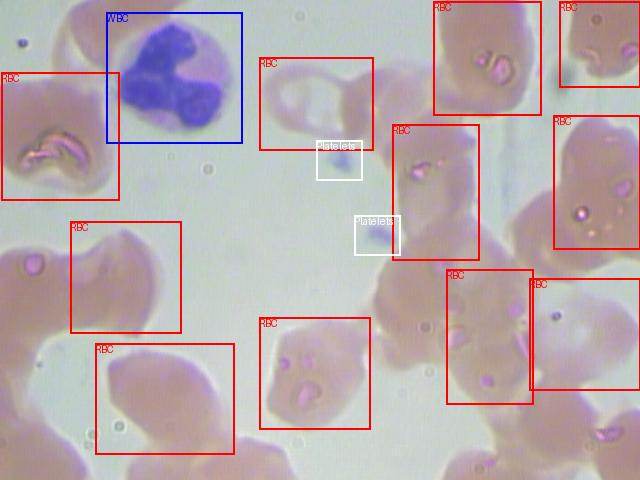Platelets: (316, 140, 362, 180), (354, 215, 400, 255)
RBC: (95, 343, 234, 454), (1, 72, 119, 200), (259, 317, 370, 429), (529, 278, 640, 390), (70, 221, 181, 333), (433, 1, 541, 115), (392, 124, 479, 260), (446, 269, 533, 404), (553, 115, 640, 249), (259, 57, 373, 150), (559, 1, 640, 87)
WBC: (106, 12, 242, 143)
